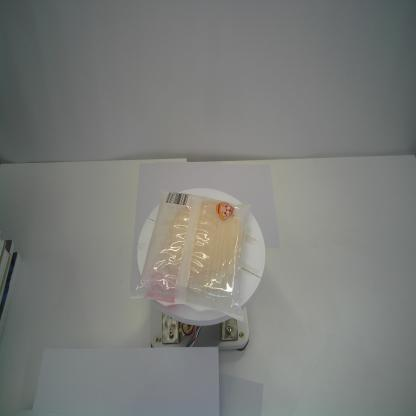Dessert: (128, 188, 252, 324)
